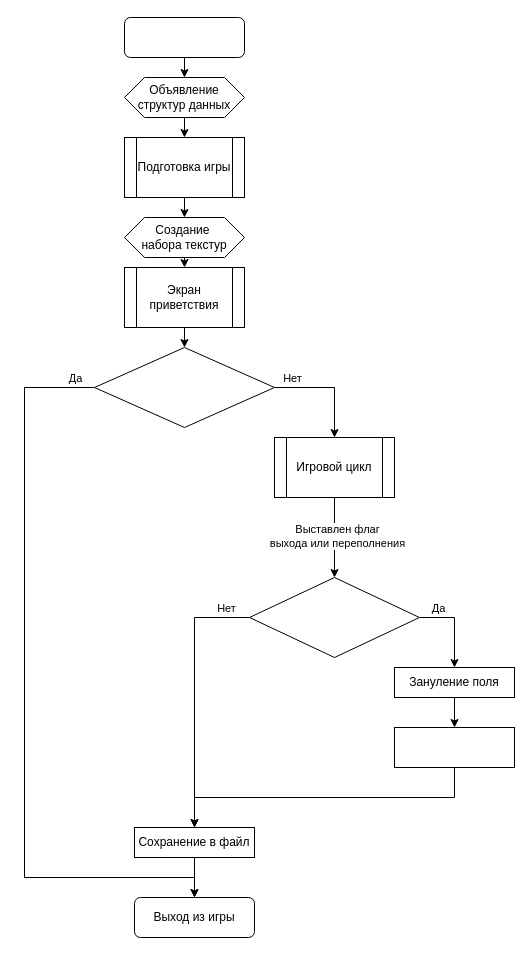
Some shapes in this 532 by 955 pixel diagram are drawn without their labels. The shapes that lost their labels are listed below. From the top down, each one's centre as x and y in pixels, then its label:
At [184,37]: "Запуск игры".
At [184,387]: "Игрок запросил выход".
At [334,617]: "Выставлен флаг переполнения?".
At [454,747]: "Сброс счётчика очков".
